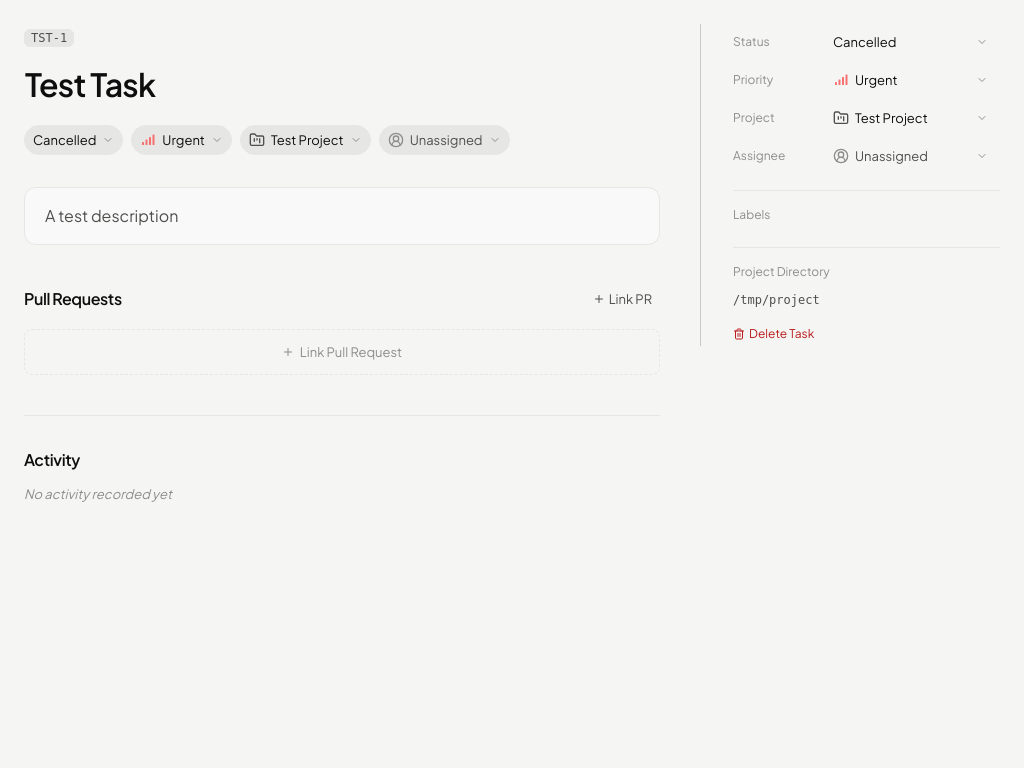
it: TaskDetail › inline editing › enters description edit mode on click
Click the button "A test description".
click(112, 216)  # box [24, 187, 660, 245]
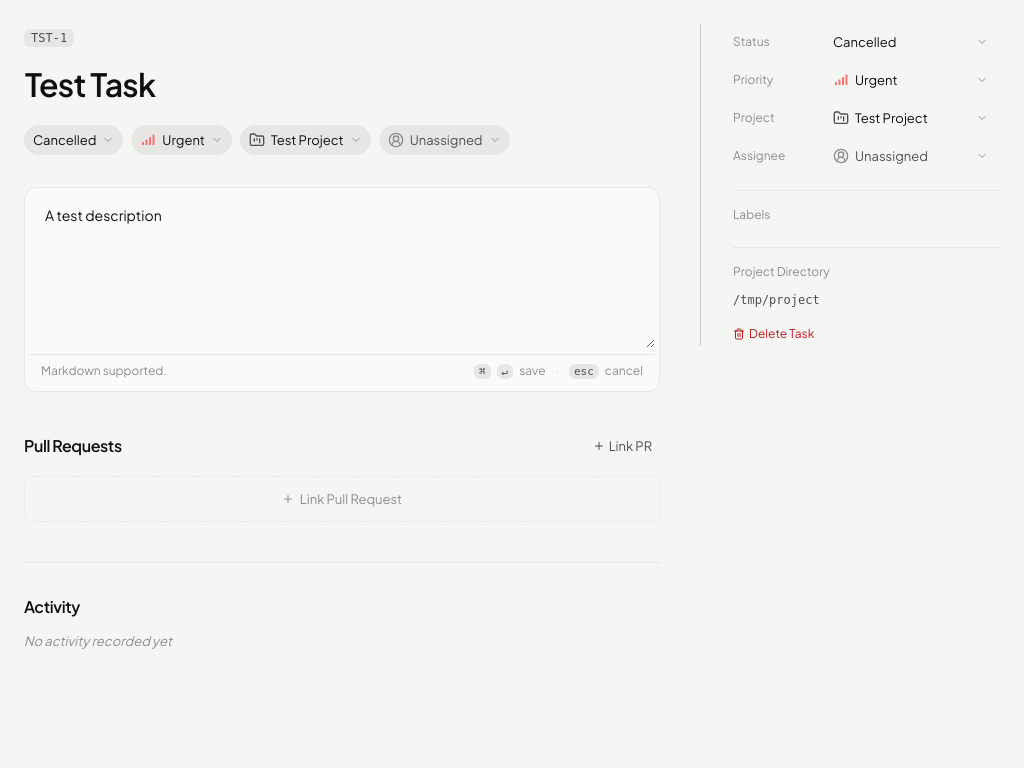
Expected: the text box showing "A test description" is shown, [29, 192, 655, 348]
